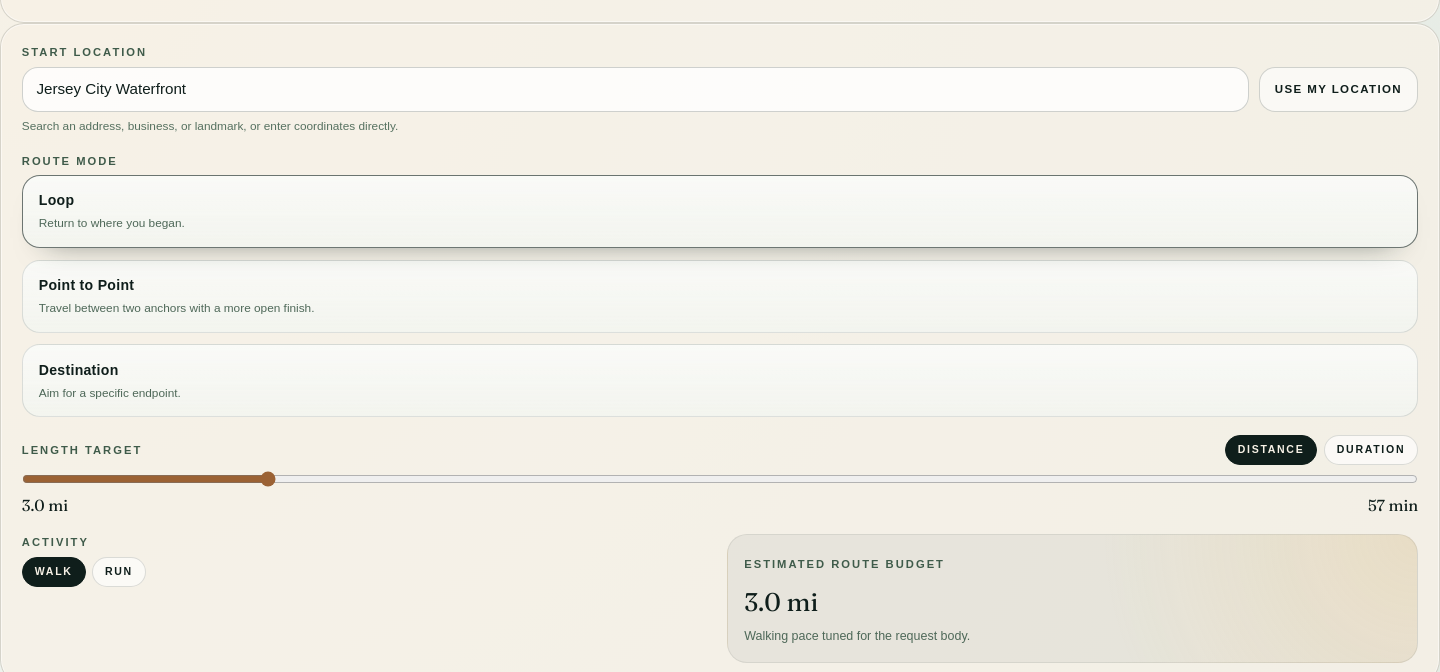
PlanPanel › blocks route search when typed destination is not selected from suggestions
Click the button "Destination Aim for a specific endpoint." at coordinates (79, 370), box [22,344,1418,417]
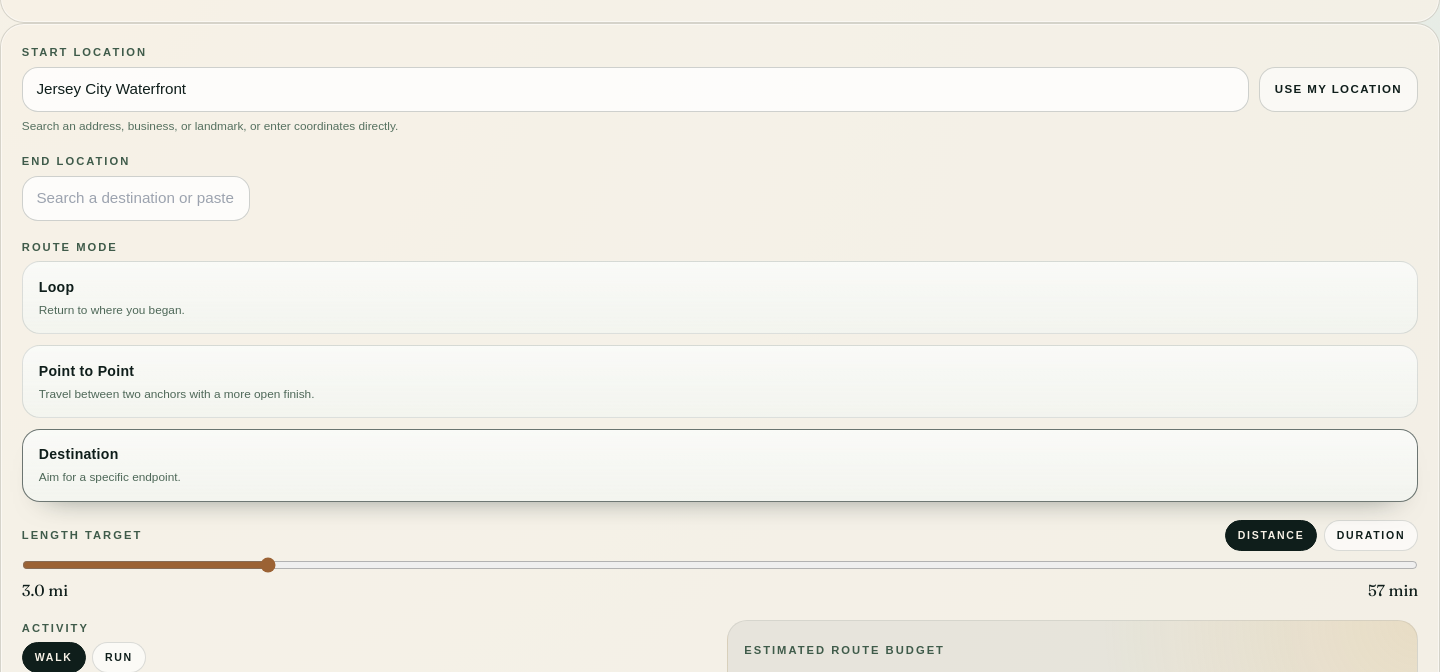
Type "Grove Street" into the field labelled "End Location" at coordinates (136, 198), box [22,176,250,221]
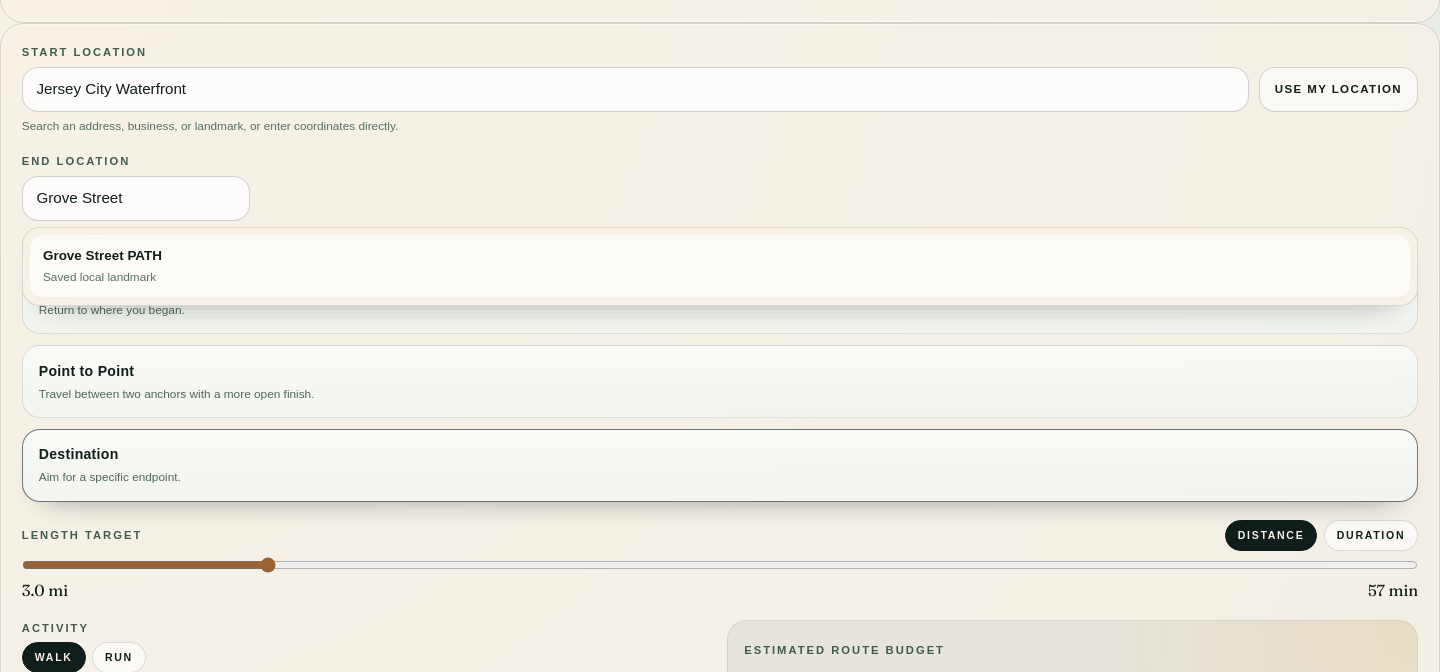
Replace the text in the field labelled "End Location" with "Grove Street maybe" at coordinates (136, 198), box [22,176,250,221]
(page scrolled)
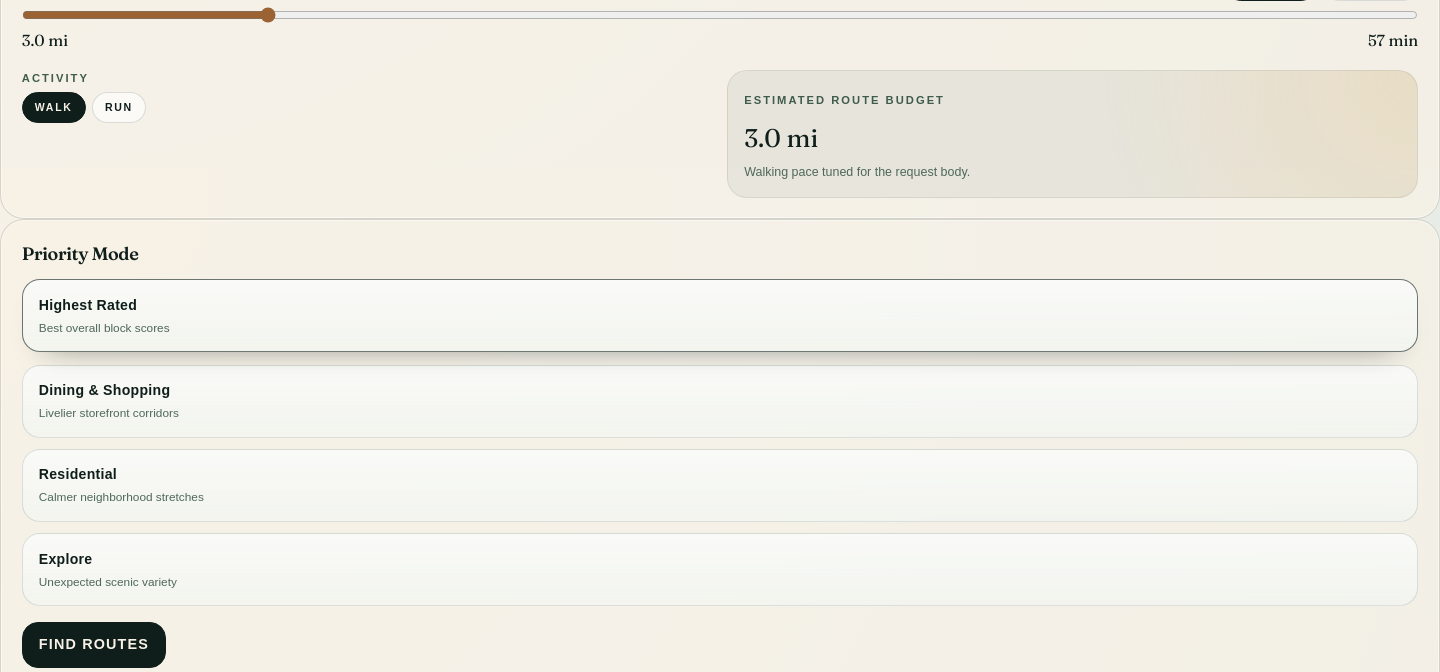
Click the button "Find Routes" at coordinates (94, 645), box [22,622,166,668]
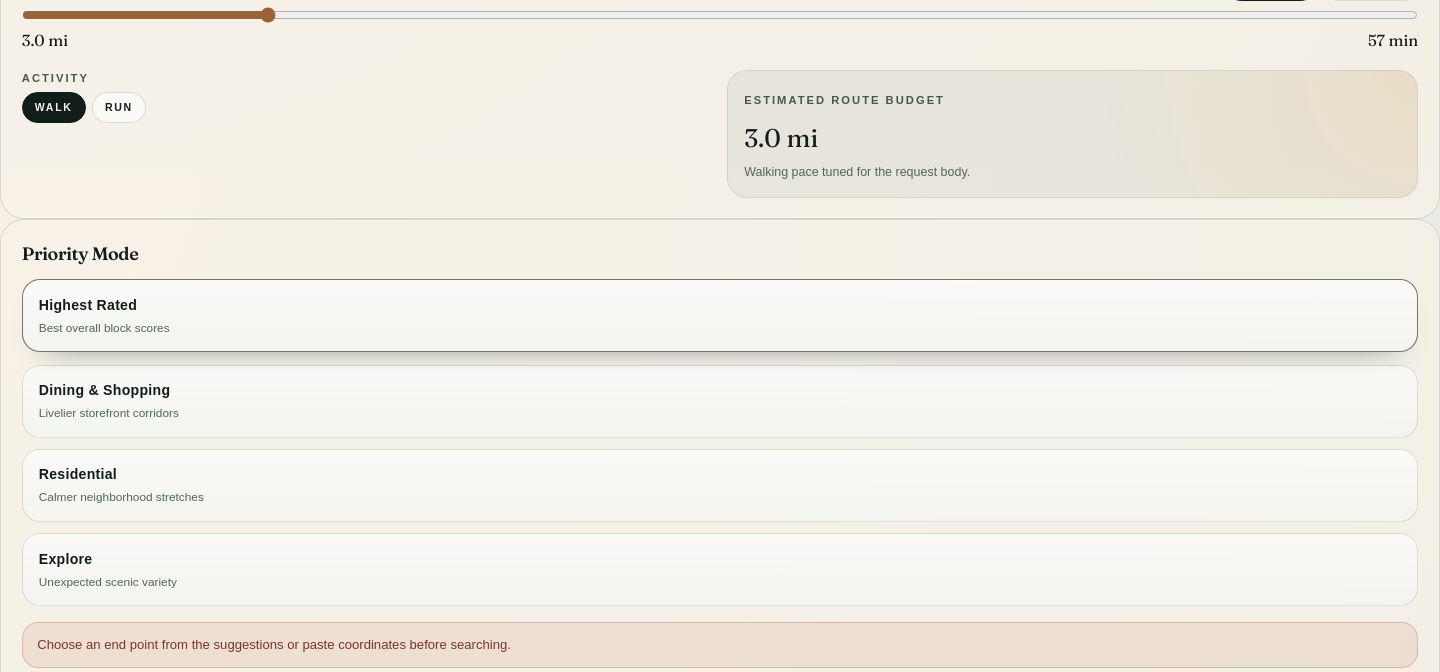
Result: the message reads "Choose an end point from the suggestions or paste coordinates before searching." at [37,637,511,652]
